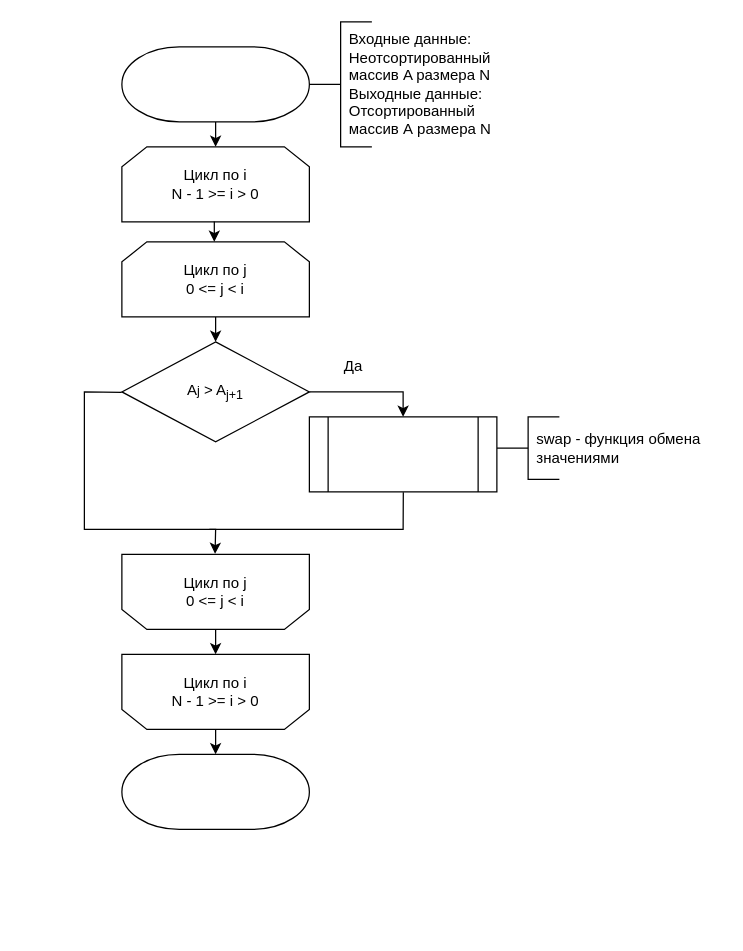
This 743x951 diagram has some shape labels left out. Each missing label, with the centre of its shape:
"swap(A j , A j+1 )" goes at pixel 402 454.
"Конец" goes at pixel 215 791.
"Начало" goes at pixel 215 84.
